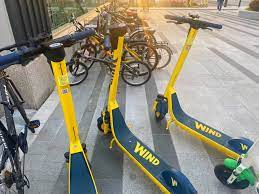kick_handler: (2, 29, 95, 62), (164, 12, 224, 29)
kick_neck: (52, 64, 77, 141), (171, 29, 195, 91), (109, 41, 121, 105)
kick_wheel: (213, 160, 253, 188), (153, 98, 166, 119), (98, 116, 110, 134)
